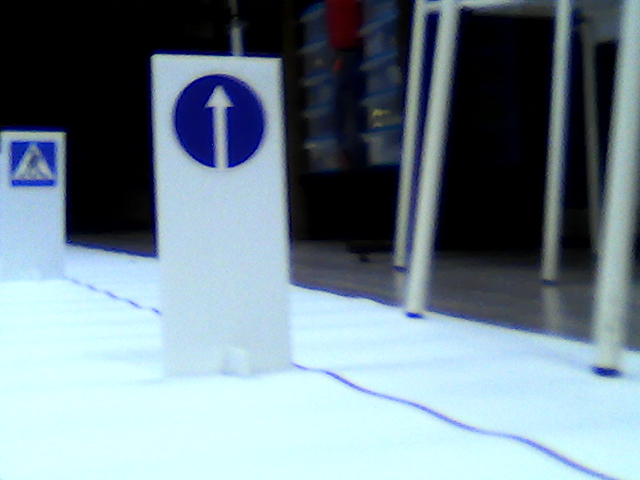forw: (174, 72, 269, 171)
pesh: (8, 138, 58, 188)
